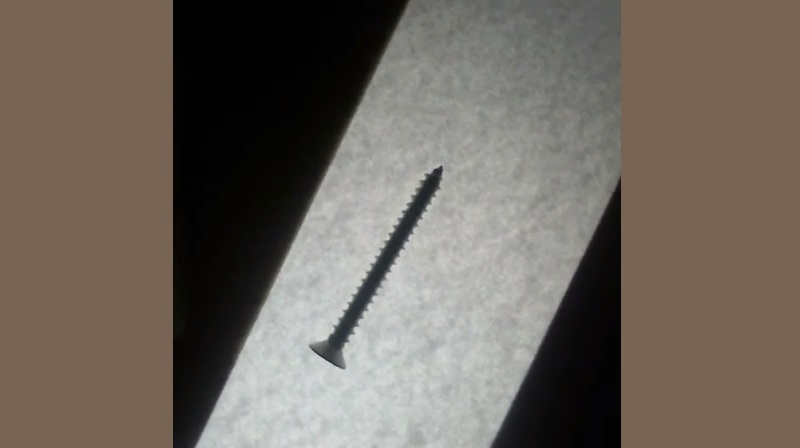S002: (305, 161, 445, 373)
